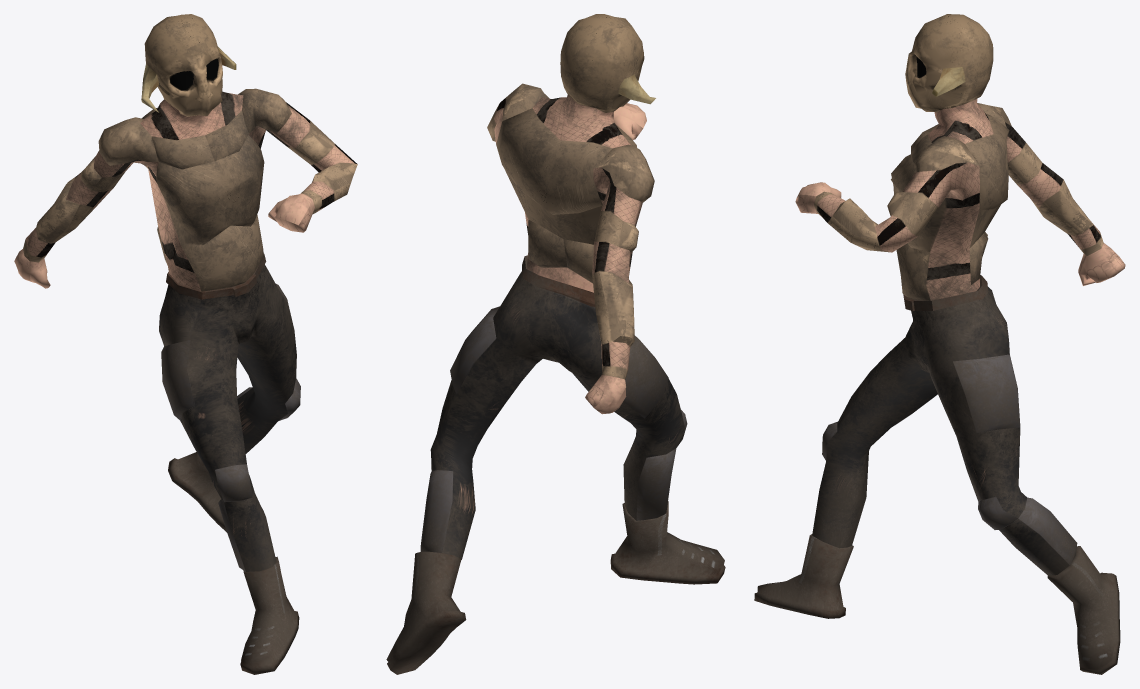
File: Anim_ataque_f3_npc1.0026.obj
The picture shows the model from 3 angles, left to right: view 1: azimuth 30°, elevation 25°; view 2: azimuth 150°, elevation 25°; view 3: azimuth 270°, elevation 25°; orthographic projection. The views are drawn at different scales.
Visible parts, largest first — view 1: NPC2; view 2: NPC2; view 3: NPC2.
Part boxes in pixels (box(x1,y1,x2,y2)): NPC2: box(14, 14, 357, 674); NPC2: box(386, 14, 725, 674); NPC2: box(754, 14, 1125, 674).
Bounding box in the file's own units: 3.83 × 9.37 × 5.26.
